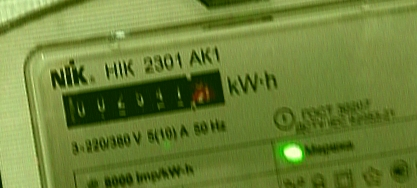0: (71, 95, 86, 118), (91, 90, 106, 113)
1: (169, 80, 183, 101)
2: (111, 88, 126, 110)
4: (150, 81, 165, 104)
5: (130, 84, 145, 108)
6: (193, 88, 206, 105)
screen: (49, 58, 237, 139)
